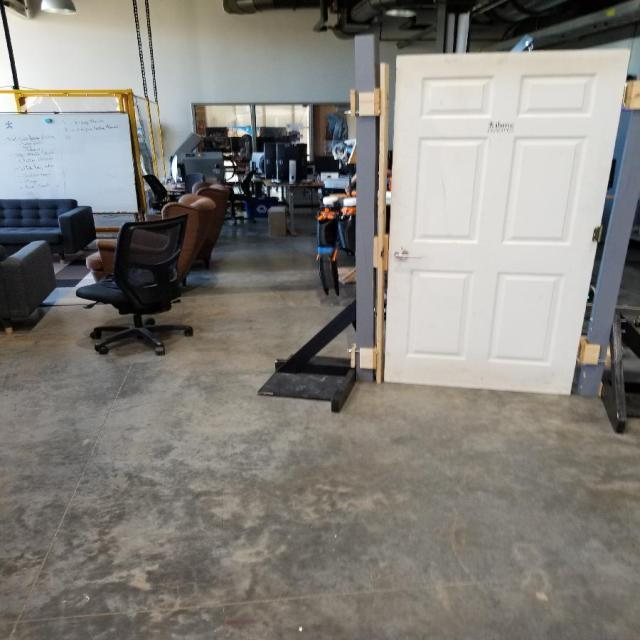door: (379, 47, 632, 402), (390, 248, 428, 263)
